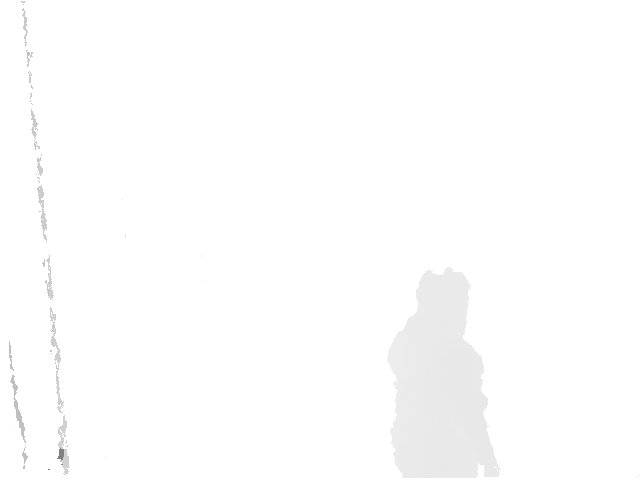head: (414, 269, 470, 346)
person: (387, 269, 503, 480)
